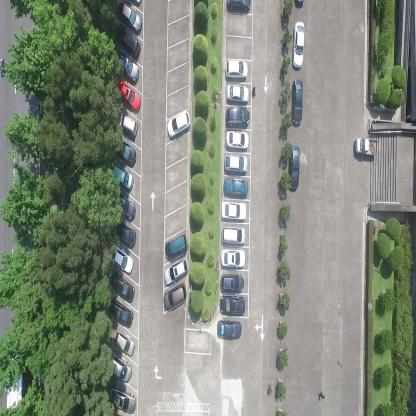car: (115, 21, 140, 58), (116, 78, 141, 112), (109, 385, 137, 415), (118, 1, 143, 34), (110, 270, 135, 302), (109, 295, 133, 328), (116, 52, 140, 84), (110, 349, 132, 382), (164, 256, 188, 286), (166, 109, 190, 139), (112, 244, 134, 276), (163, 282, 187, 310), (116, 136, 137, 167), (292, 20, 304, 71), (287, 144, 300, 191), (111, 165, 134, 191), (165, 232, 187, 259), (114, 220, 136, 247), (224, 58, 248, 82), (225, 105, 250, 128), (219, 295, 246, 316), (291, 79, 303, 126), (223, 176, 248, 198), (221, 224, 246, 246), (223, 152, 249, 173), (221, 201, 247, 222), (220, 249, 246, 270), (113, 329, 134, 355), (354, 136, 378, 158), (116, 110, 138, 134), (216, 320, 242, 340), (118, 193, 136, 221), (225, 131, 249, 151), (220, 273, 244, 293), (226, 84, 248, 104), (225, 0, 252, 11)
